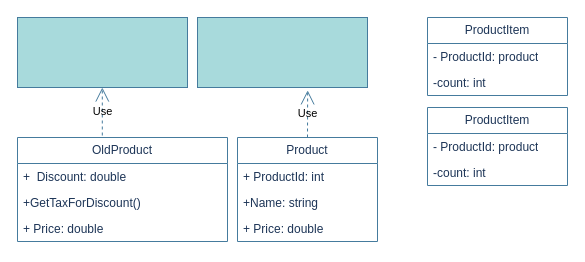
Image size: 585x262. Some labels were removed from this diagram. Here are the shapes that lost their labels. From the top down, the box of each, then its label:
(16, 16, 188, 88): «IDiscount» +Discount:double GetTaxForDiscount()
(196, 16, 368, 88): «IProduct» +ProductId:int
